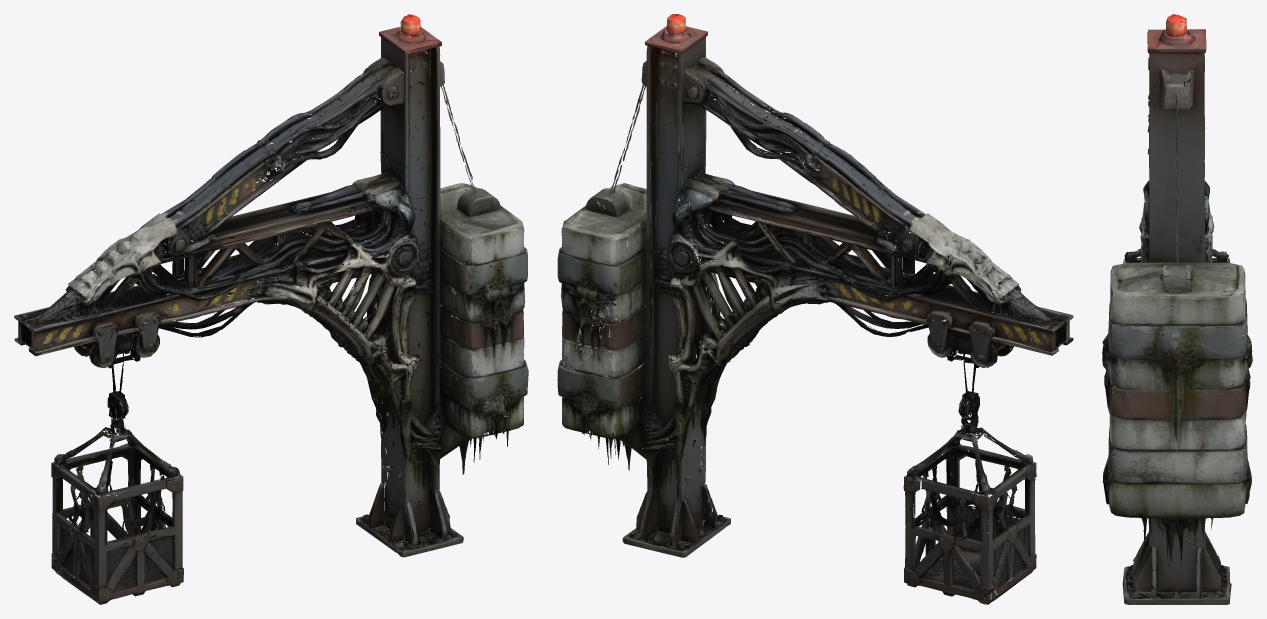
File: chasm_hanging_cage_crane.glb
3 renders of one model, left to right at view 1: azimuth 30°, elevation 25°; view 2: azimuth 150°, elevation 25°; view 3: azimuth 270°, elevation 25°, orthographic. The views are drawn at different scales.
Visible parts, largest first — view 1: node_0; view 2: node_0; view 3: node_0.
Boxes of the visible parts, <box> form: node_0: <box>14,14,528,604</box>; node_0: <box>557,14,1073,604</box>; node_0: <box>1102,14,1252,604</box>.
Size of the model in its own units: 0.9563 by 0.9739 by 0.2324.
1 material, 1 textured.
